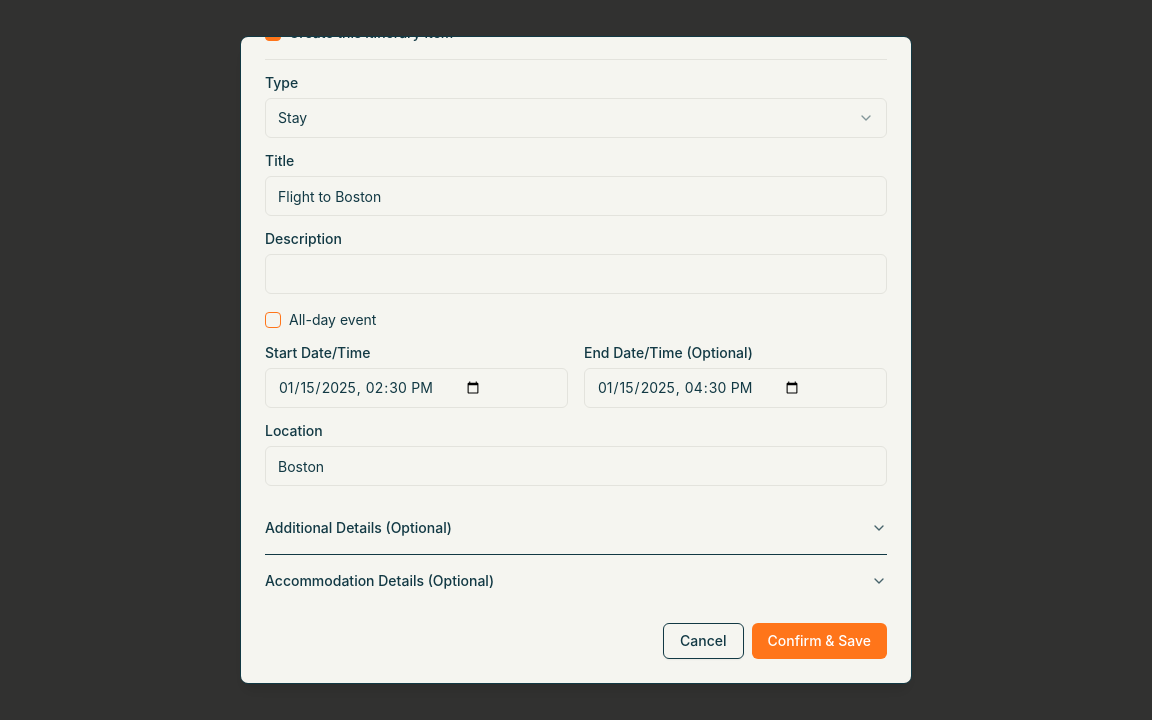
Test: ParsedItemModal - Itinerary Metadata › Type-Specific Metadata › shows AccommodationMetadataFields for stay type
(page scrolled)
Click the button "Accommodation Details (Optional)".
click(380, 580)  # box [265,555,887,607]
(page scrolled)
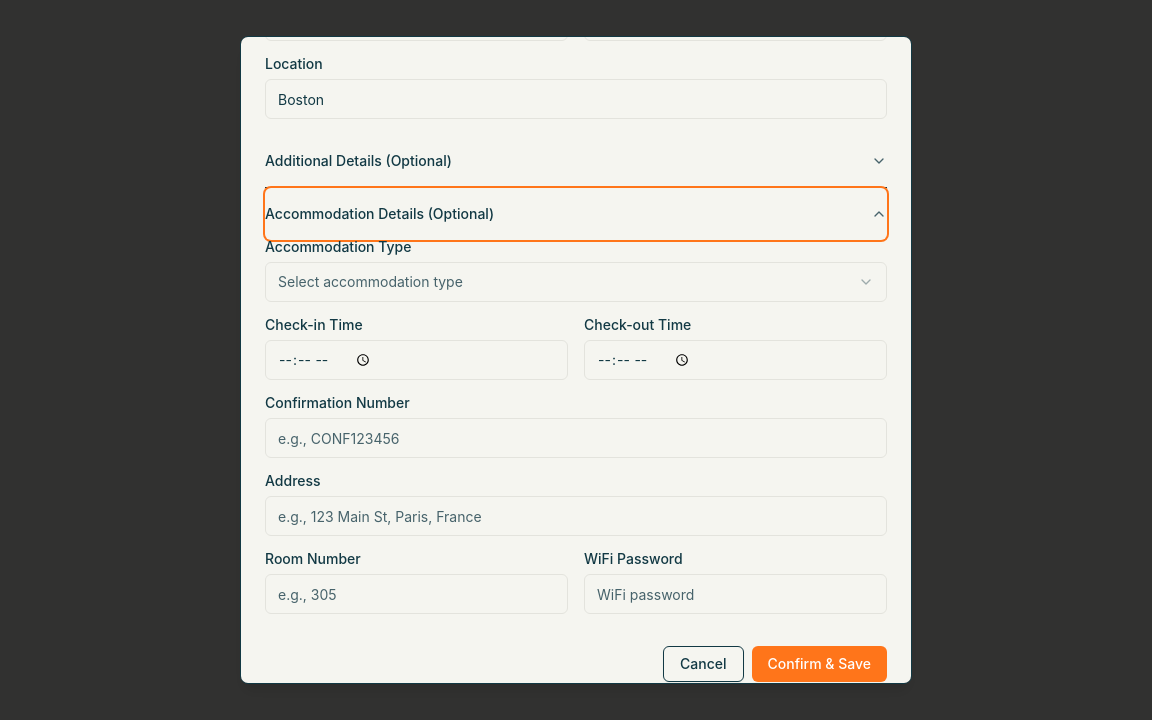
Now the dropdown labelled "Select accommodation type" is shown, box [265,262,887,302]
Now the time field labelled "Check-in Time" is shown, box [265,340,568,380]
